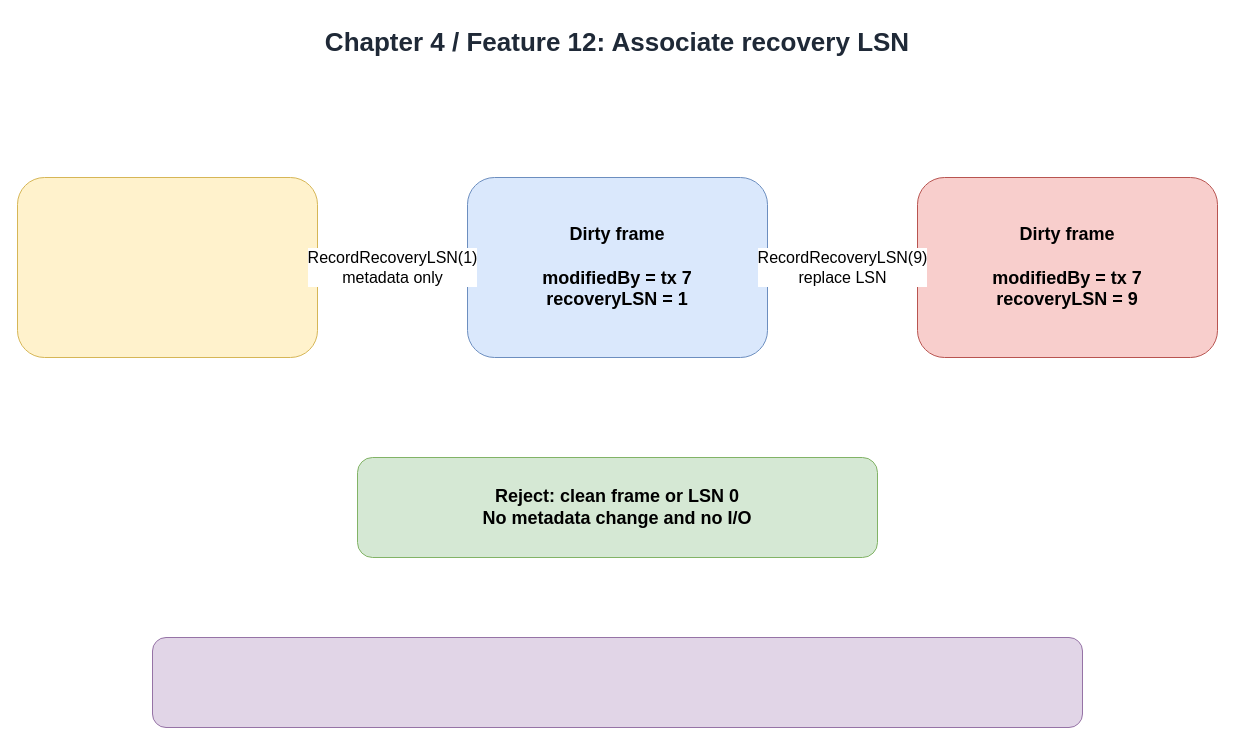
Some shapes in this 1235 by 745 pixel diagram are drawn without their labels. Each missing label, with the centre of its shape:
Dirty frame modifiedBy = tx 7 recoveryLSN = none: the point at 167,267
The associated LSN is a future WAL prerequisite, not an immediate flush request.: the point at 617,682
